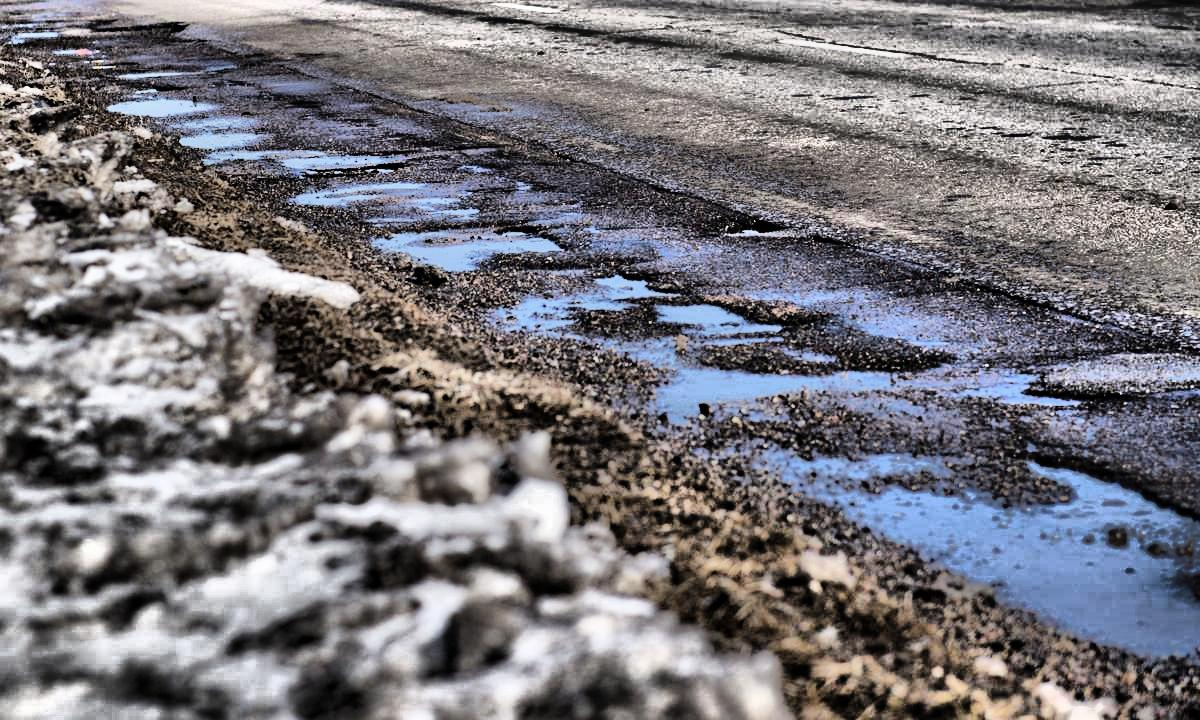pothole: (777, 452, 1200, 660), (488, 285, 889, 416), (361, 231, 566, 274), (275, 181, 446, 207), (100, 90, 213, 120), (277, 149, 393, 177), (177, 132, 261, 155), (169, 118, 269, 132), (720, 219, 781, 240)
